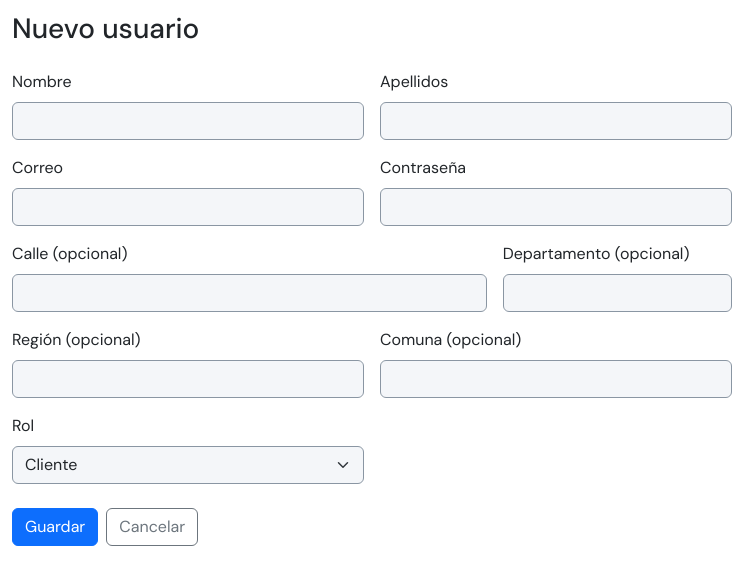
Test case: UsuarioForm › valida el formato del correo
Type "Ana" into the field labelled "Nombre".
click(188, 121); type("Ana")  # box [12,102,364,140]
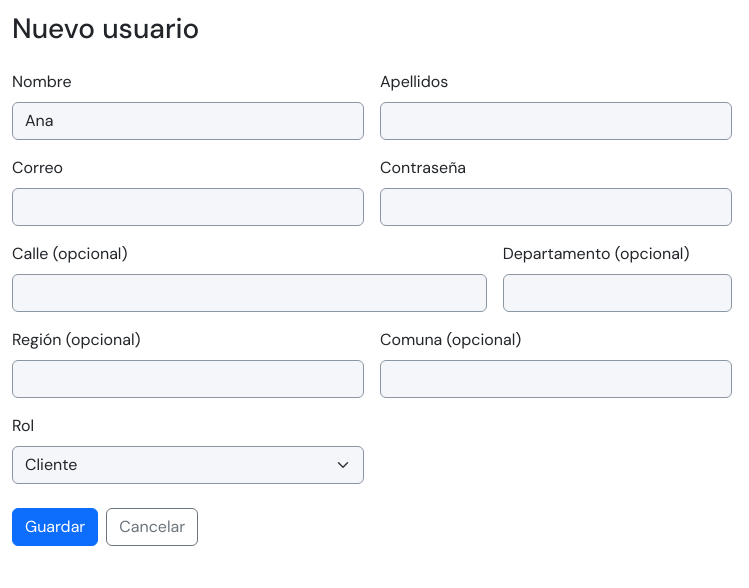
Type "Soto" into the field labelled "Apellidos".
click(556, 121); type("Soto")  # box [380,102,732,140]
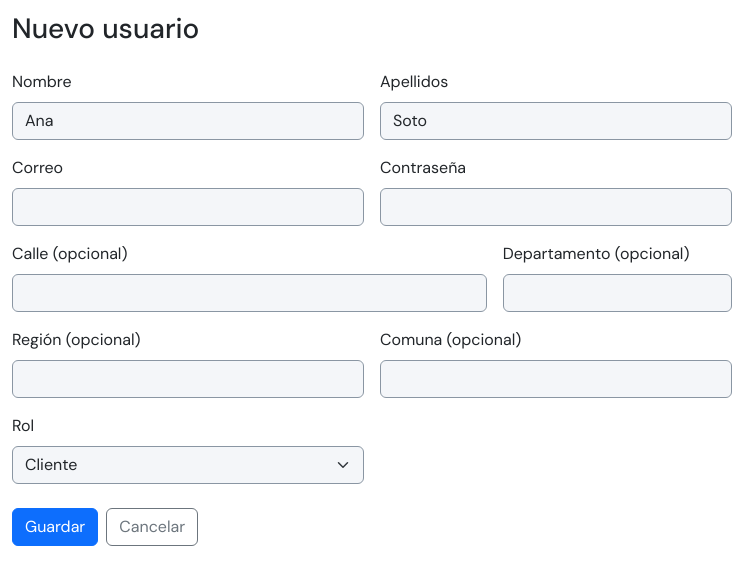
Type "Ana@Correo.cl" into the field labelled "Correo".
click(188, 207); type("Ana@Correo.cl")  # box [12,188,364,226]
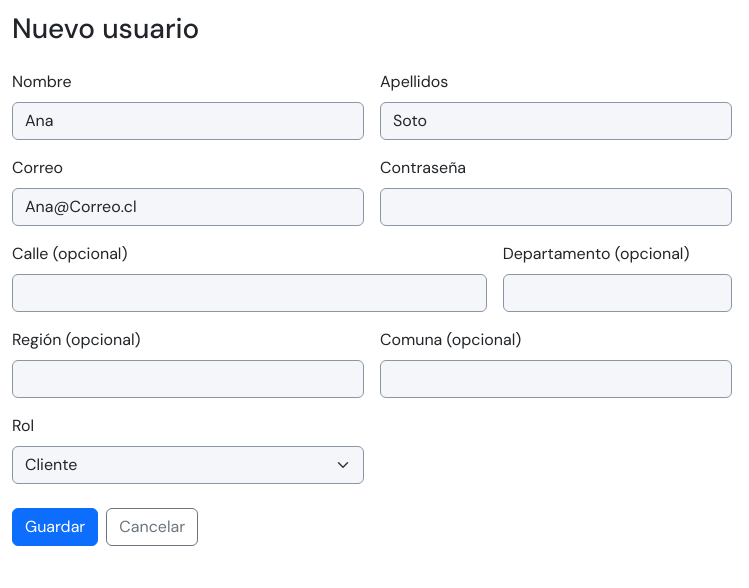
Type "ana123" into the password field labelled "Contraseña".
click(556, 207); type("ana123")  # box [380,188,732,226]
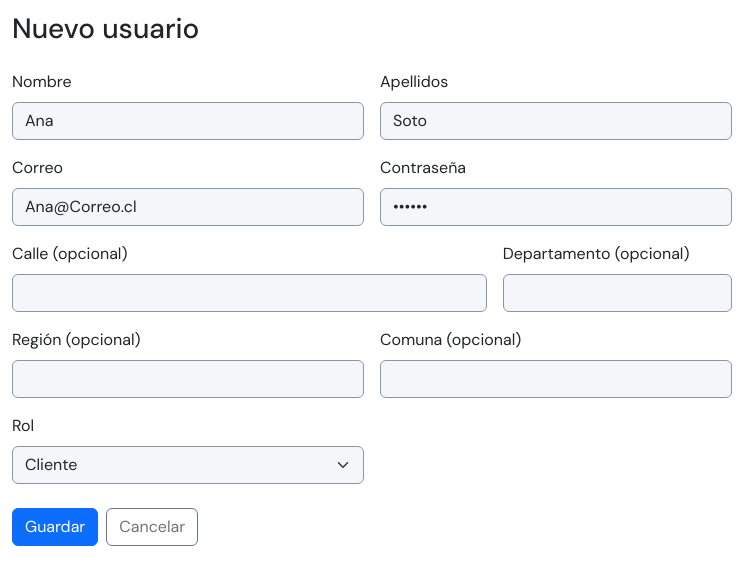
Replace the text in the field labelled "Correo" with "correo-malo" at (188,207), box [12,188,364,226]
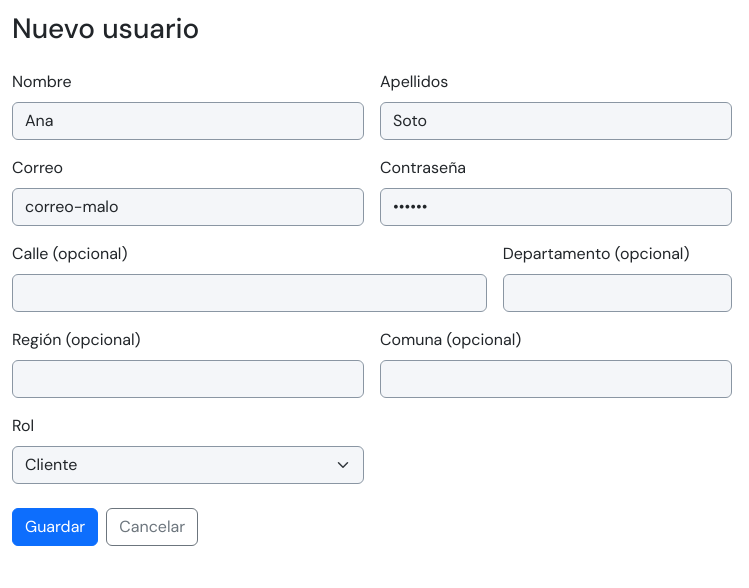
Click the button "Guardar".
click(55, 527)  # box [12,508,98,546]
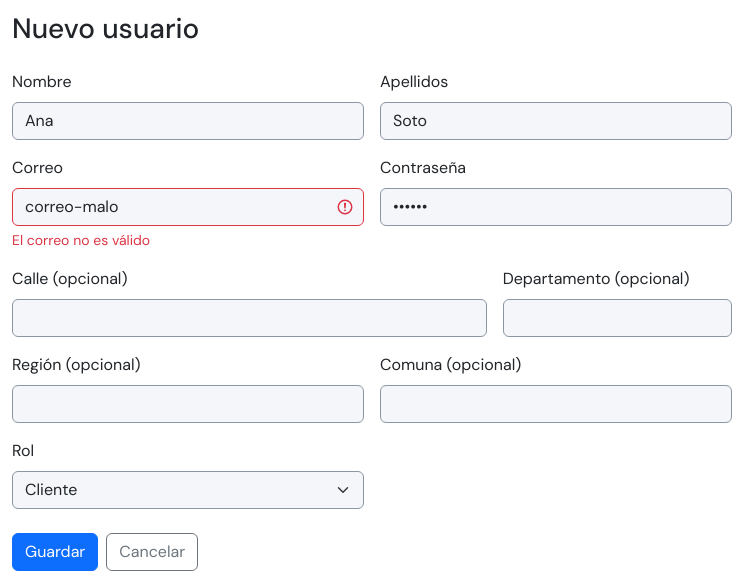
Expected: the text "El correo no es válido" is shown, [12,231,150,249]
